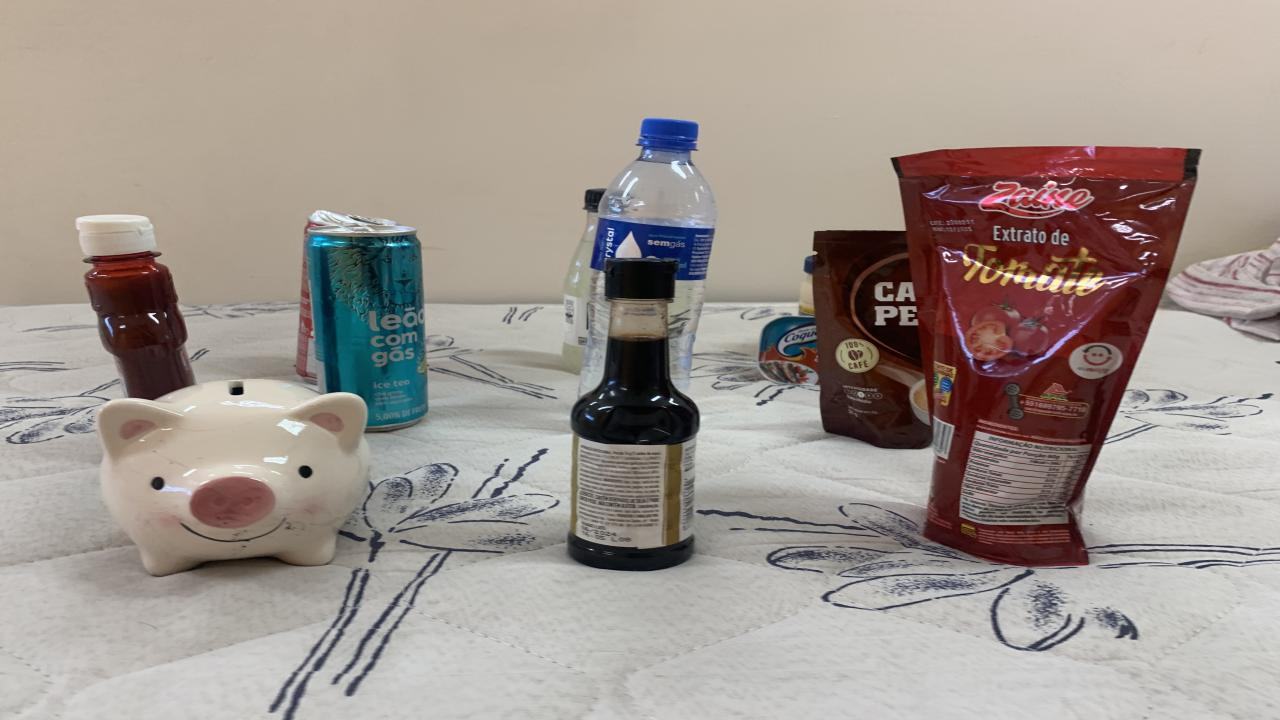Coffee-Pantry_Items: (812, 231, 930, 448)
Coke-Drinks: (295, 242, 318, 382), (305, 210, 395, 236)
English_Sauce-Pantry_Items: (568, 261, 700, 570)
Ketchup-Pantry_Items: (75, 214, 195, 399)
Mayonnaise-Pantry_Items: (798, 255, 815, 315)
Pig_Safe-Miscellaneous: (98, 379, 370, 576)
Soda-Drinks: (562, 188, 605, 373)
Tea-Drinks: (308, 225, 428, 431)
Tomato_Sauce-Pantry_Items: (892, 146, 1200, 566)
Tuna_Can-Pantry_Items: (758, 317, 818, 384)
Water_Bottle-Drinks: (580, 118, 718, 394)
